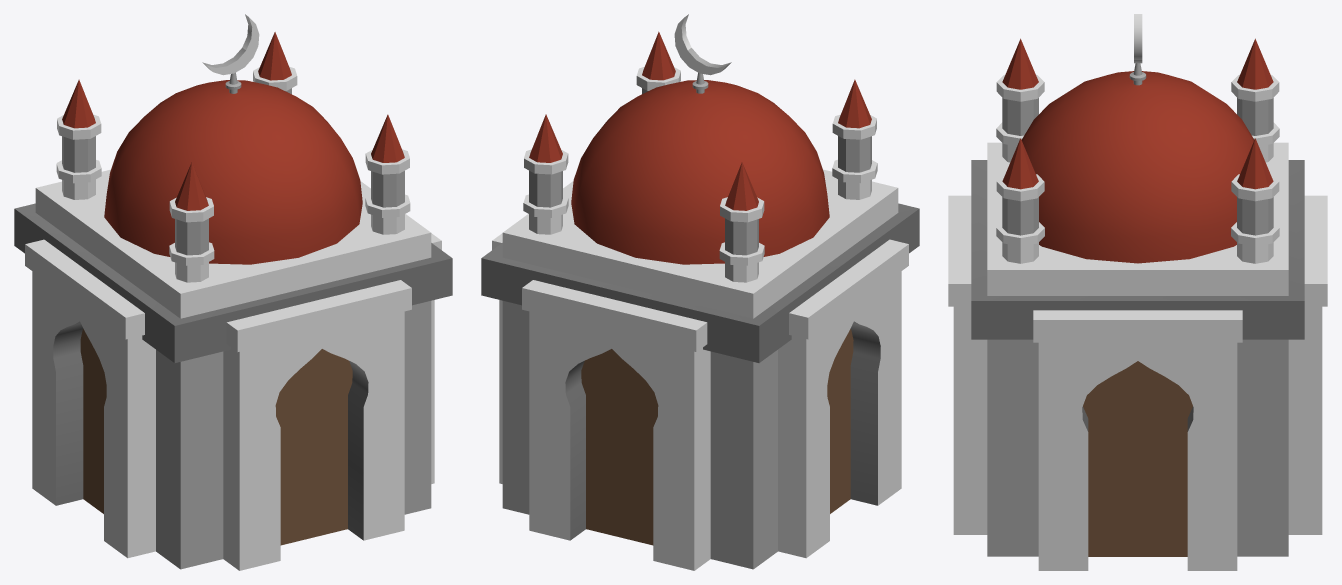
The model's file is mosque.glb.
3 views of the same model, side by side, from view 1: azimuth 30°, elevation 25°; view 2: azimuth 150°, elevation 25°; view 3: azimuth 270°, elevation 25° (orthographic). The views are drawn at different scales.
Parts seen in each view (by area): view 1: mosque; view 2: mosque; view 3: mosque.
Part boxes in pixels (x1,y1,x2,y2): mosque: [14, 14, 452, 570]; mosque: [481, 14, 919, 570]; mosque: [948, 14, 1327, 570].
Bounding box in the file's own units: 2.46 × 3.48 × 2.46.
